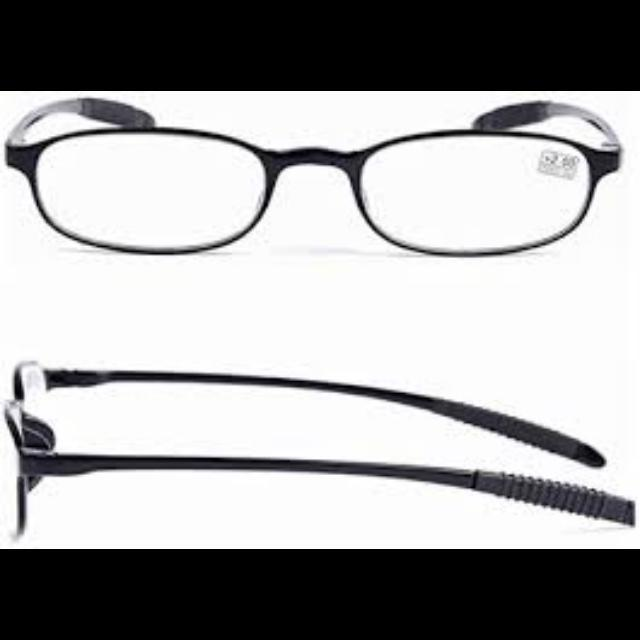glasses: (3, 92, 640, 340)
